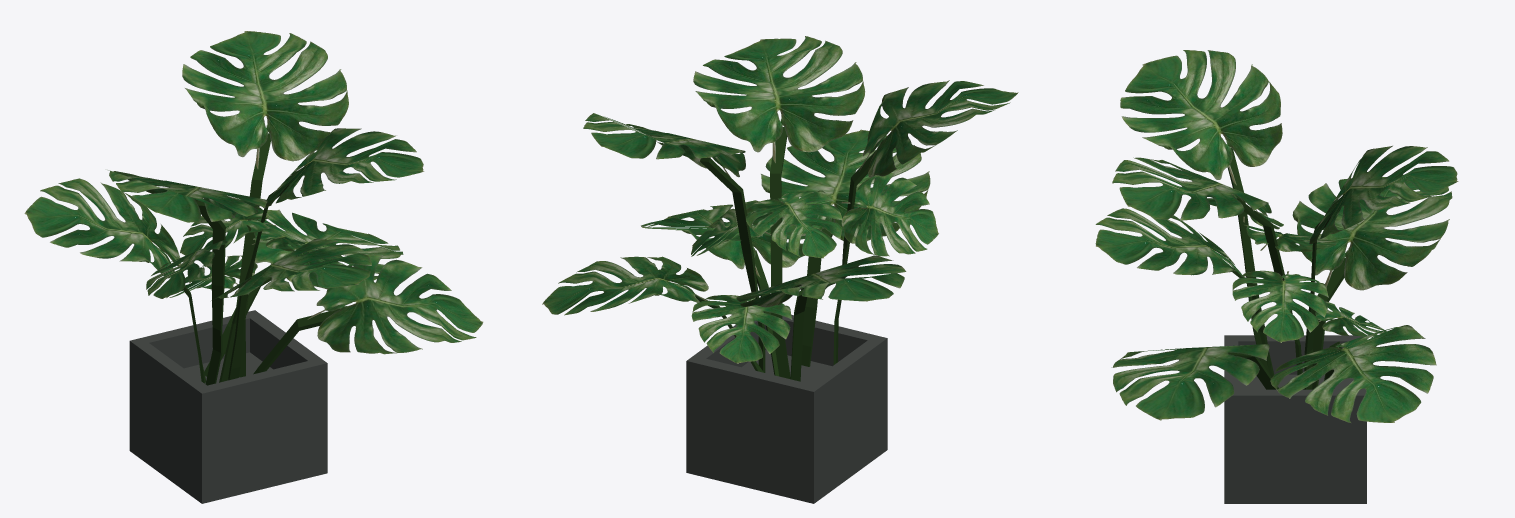
The model's file is Monstera_Model.fbx.
3 renders of one model, left to right at view 1: azimuth 30°, elevation 25°; view 2: azimuth 150°, elevation 25°; view 3: azimuth 270°, elevation 25°, orthographic. The views are drawn at different scales.
Parts seen in each view (by area): view 1: pianta_3; view 2: pianta_3; view 3: pianta_3.
Boxes of the visible parts, x1=… form: pianta_3: x1=24, y1=31, x2=483, y2=503; pianta_3: x1=542, y1=36, x2=1018, y2=503; pianta_3: x1=1095, y1=50, x2=1458, y2=503.
Size of the model in its own units: 0.2452 by 0.1988 by 0.2174.
Materials: 2 (2 with a texture image).
